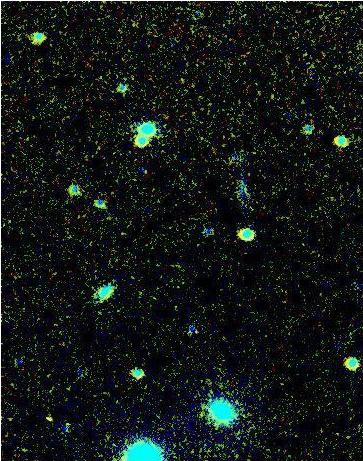star: (40, 405, 70, 435)
